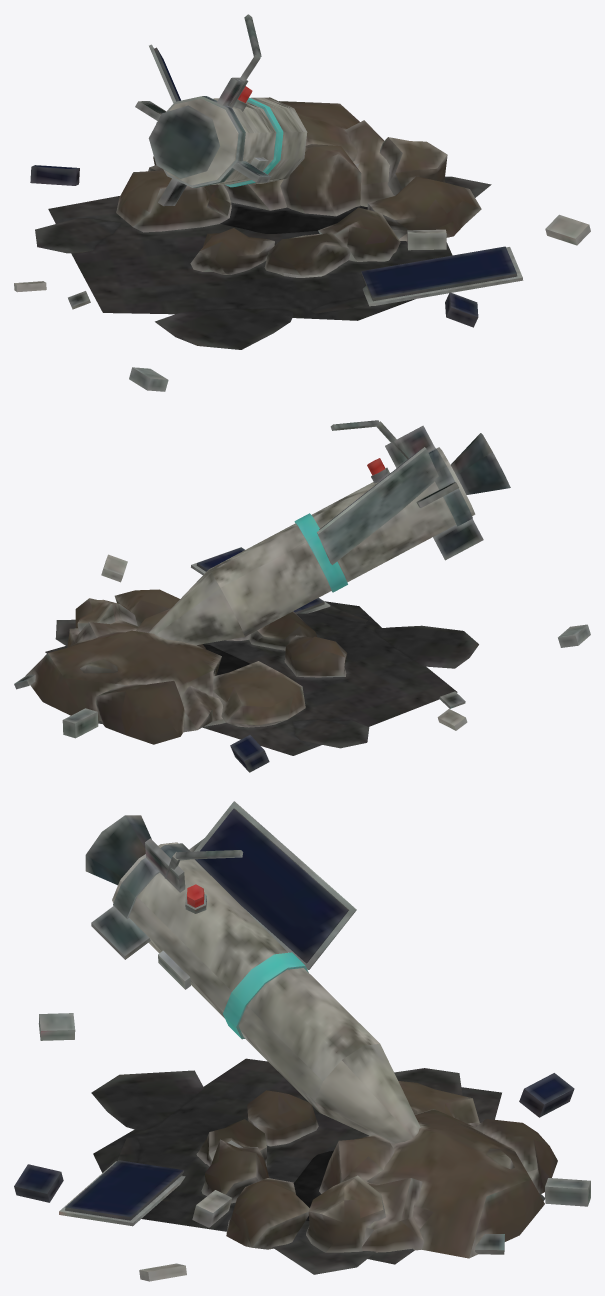
File: probe_wreck_0.glb
3 views of the same model, one above another, from view 1: azimuth 30°, elevation 25°; view 2: azimuth 150°, elevation 25°; view 3: azimuth 270°, elevation 25° (orthographic). The views are drawn at different scales.
Visible parts, largest first — view 1: te_prop_probe_wreck_0; view 2: te_prop_probe_wreck_0; view 3: te_prop_probe_wreck_0.
Boxes of the visible parts, <box> form: te_prop_probe_wreck_0: <box>14,14,590,391</box>; te_prop_probe_wreck_0: <box>14,420,590,772</box>; te_prop_probe_wreck_0: <box>14,801,590,1281</box>.
Bounding box in the file's own units: 0.5147 × 0.2625 × 0.4849.
1 material, 1 textured.
